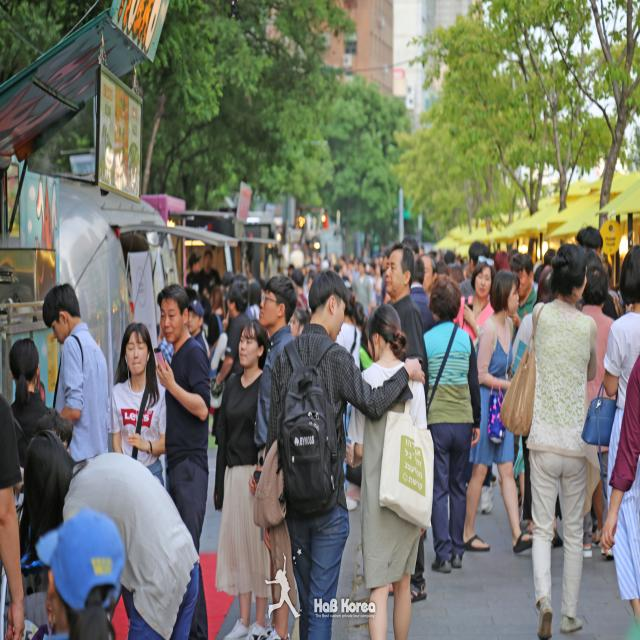body: (252, 266, 427, 640), (16, 430, 200, 640), (341, 300, 436, 640), (530, 242, 597, 640), (153, 281, 214, 640), (213, 316, 279, 640), (462, 268, 534, 556), (186, 240, 555, 294), (246, 273, 299, 640), (421, 272, 482, 574), (382, 243, 429, 604), (26, 504, 127, 640), (512, 267, 560, 533), (41, 282, 110, 463), (581, 263, 617, 558), (580, 264, 616, 548), (108, 322, 168, 489), (599, 352, 640, 554), (8, 337, 61, 483), (0, 396, 26, 640), (209, 280, 251, 423), (334, 288, 362, 495), (453, 260, 495, 354), (506, 254, 542, 342), (207, 293, 229, 376), (602, 264, 631, 320), (38, 408, 72, 452), (188, 293, 208, 353), (25, 601, 55, 640), (478, 464, 498, 517), (572, 227, 603, 260), (410, 293, 435, 331), (290, 292, 310, 338), (592, 477, 604, 544), (355, 293, 368, 352), (552, 497, 564, 550), (158, 337, 174, 364), (248, 293, 261, 320), (343, 496, 358, 514), (381, 293, 392, 305), (460, 293, 476, 297)
